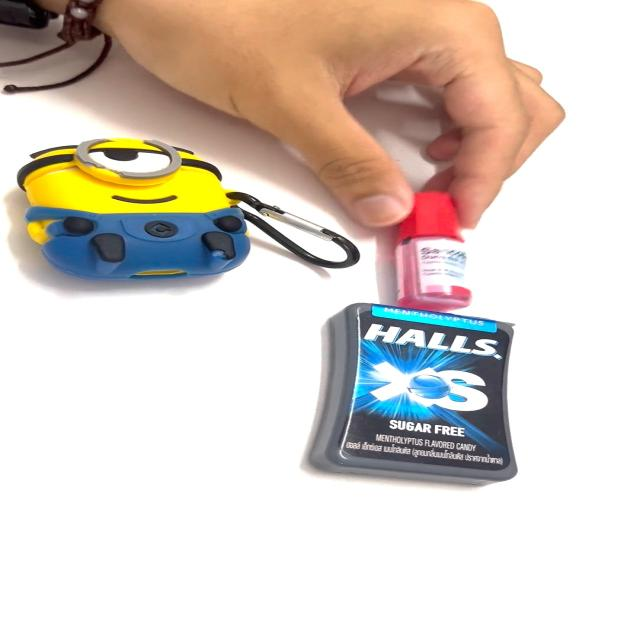airpod minion: (8, 131, 365, 287)
mint hall: (304, 292, 534, 508)
sancoba eyes: (389, 173, 493, 314)
